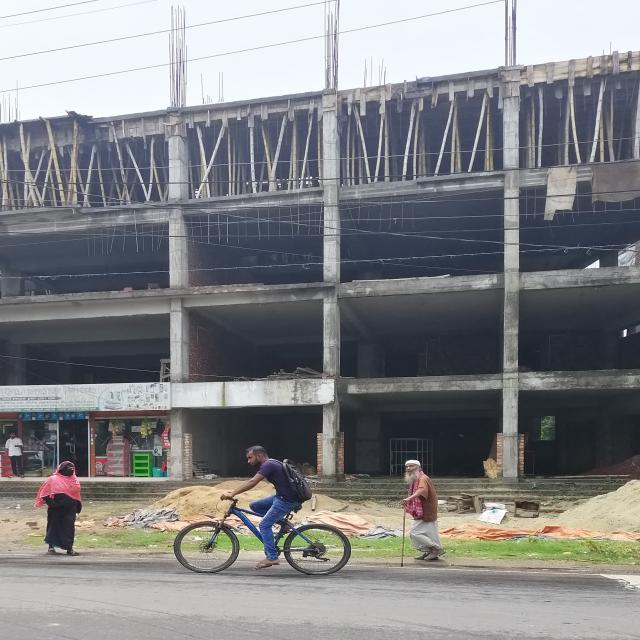Bicycle: (168, 486, 357, 577)
